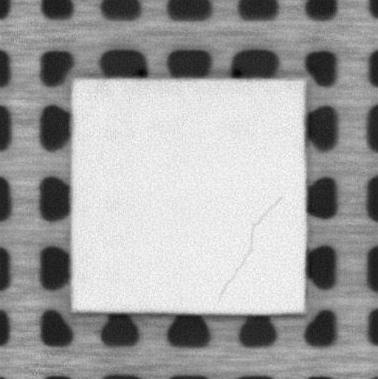DIE_CRACK: (218, 195, 282, 299)
